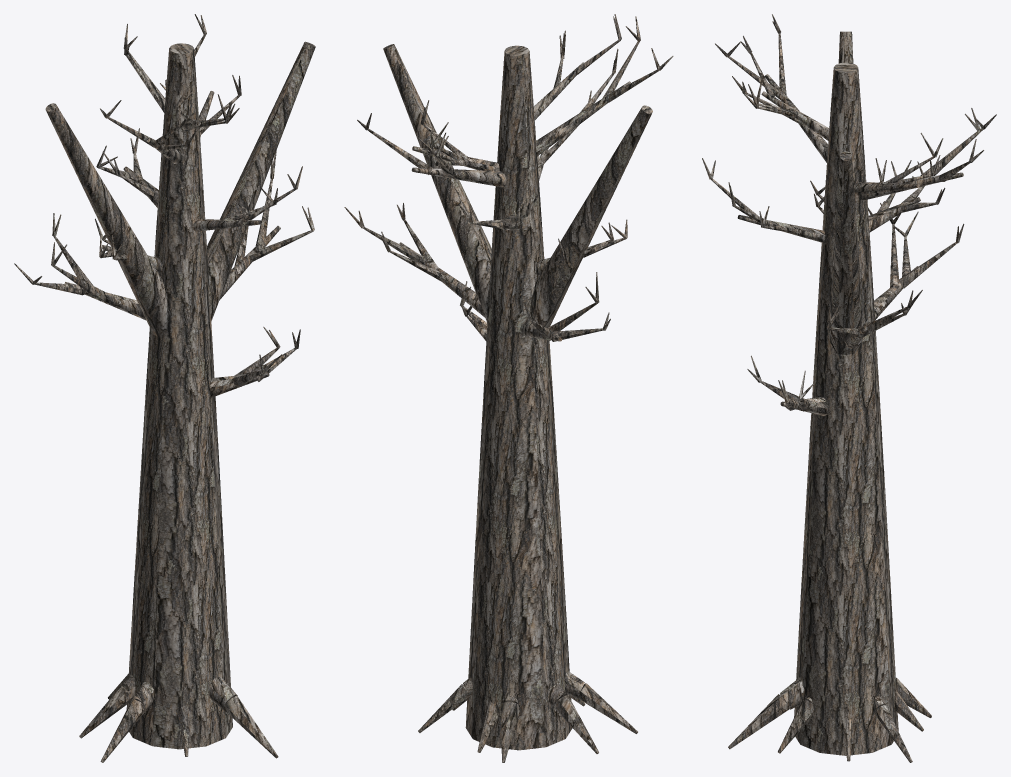
Rendered from lightning-split-v01.glb.
The picture shows the model from 3 angles, left to right: view 1: azimuth 30°, elevation 25°; view 2: azimuth 150°, elevation 25°; view 3: azimuth 270°, elevation 25°; orthographic projection.
Parts seen in each view (by area): view 1: dead-tree-split; view 2: dead-tree-split; view 3: dead-tree-split.
Boxes of the visible parts, <box> form: dead-tree-split: <box>14,14,315,762</box>; dead-tree-split: <box>344,14,673,762</box>; dead-tree-split: <box>702,14,996,762</box>.
Bounding box in the file's own units: 3.54 × 8.63 × 3.41.
1 material, 1 textured.
